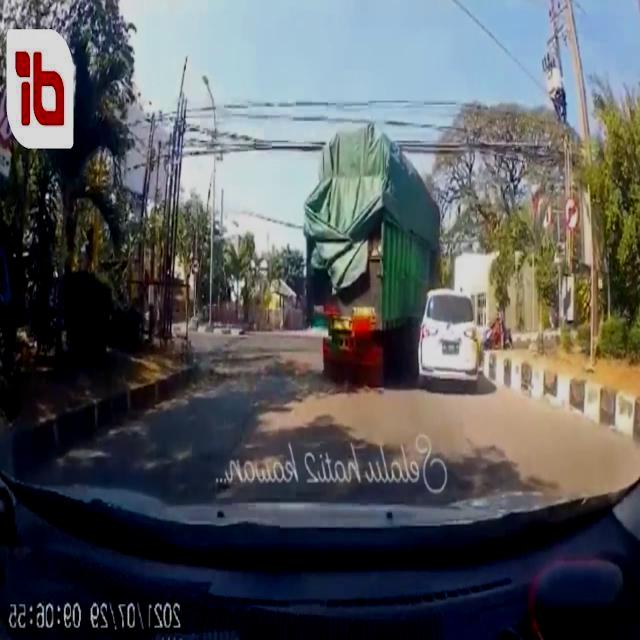accident: (313, 126, 482, 390)
